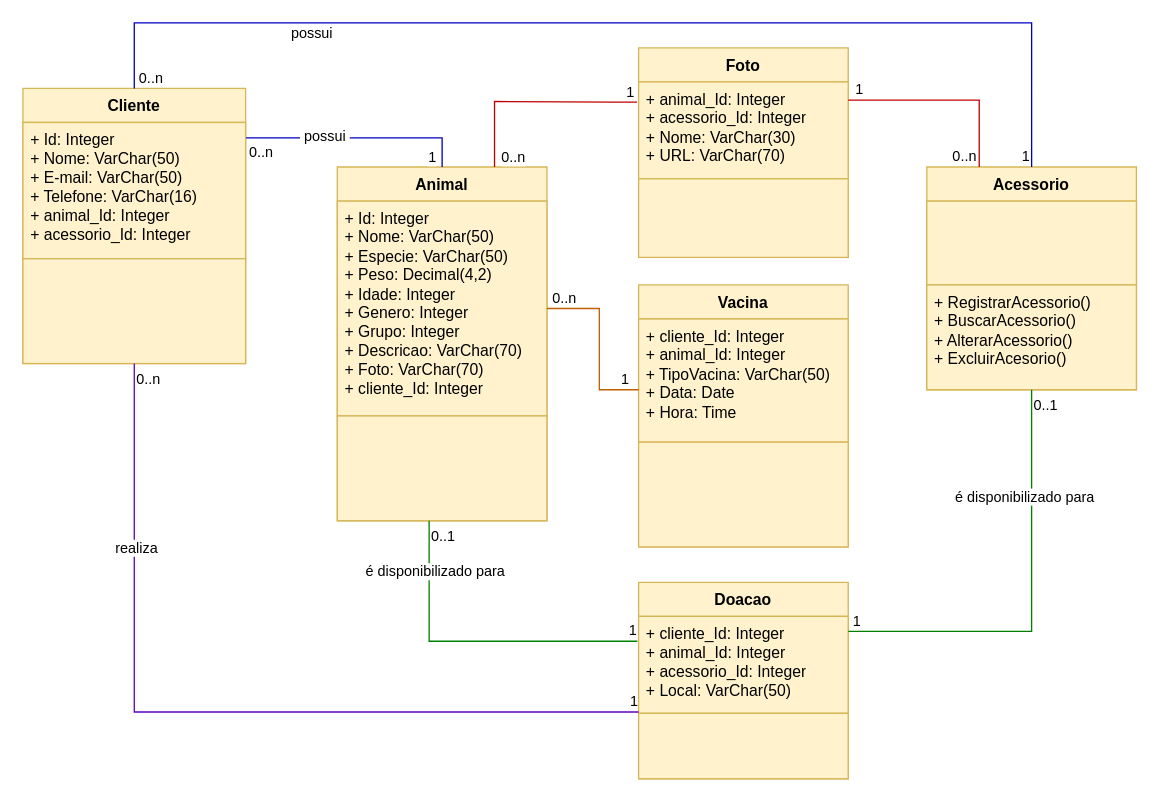
The diagram is 1159 pixels wide and 806 high, and some of its shapes have lost their labels. The shapes that lost their labels are listed below. From the top down, each one's centre as x and y in pixels, then its label:
pixel 742 217: + RegistrarFoto() + AlterarFoto() + ExcluirFotol()
pixel 1031 242: + Id: Integer + Nome: VarChar(50) + Tipo: VarChar(50)
pixel 134 310: + RegistrarCliente() + BuscarCliente() + AlterarCliente() + ExcluirCliente()
pixel 441 468: + RegistrarAnimal() + BuscarAnimal() + AlterarAnimal() + ExcluirAnimal()
pixel 742 494: + RegistrarVacina() + BuscarVacina() + AlterarVacina() + ExcluirVacina()
pixel 742 745: + RealizarDoacao() + CancelarDoacao()
